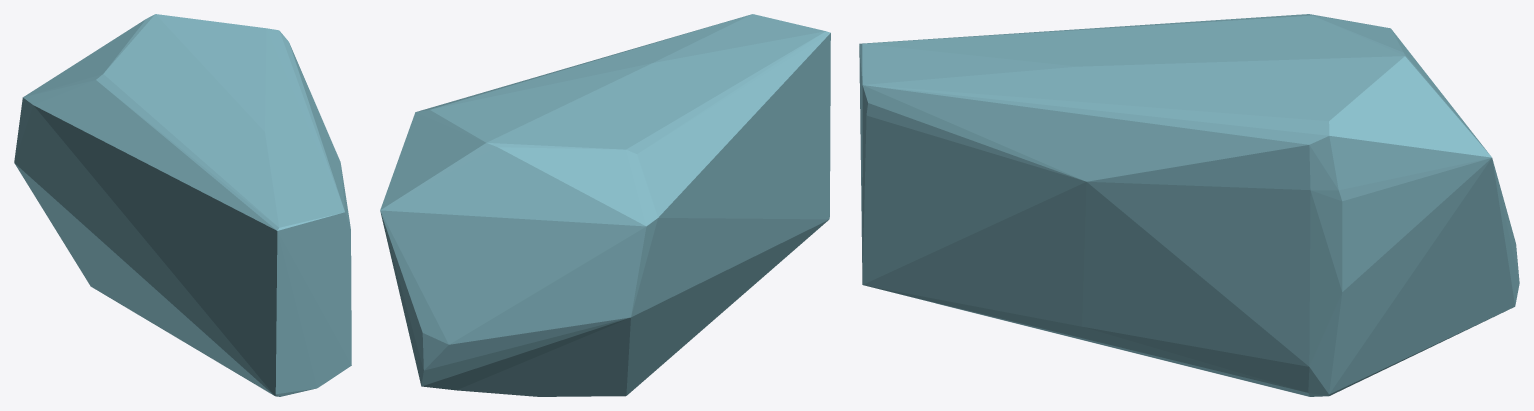
File: anesthesia_machine_a01.glb
3 views of the same model, side by side, from view 1: azimuth 30°, elevation 25°; view 2: azimuth 150°, elevation 25°; view 3: azimuth 270°, elevation 25° (orthographic). The views are drawn at different scales.
Visible parts, largest first — view 1: geometry_0; view 2: geometry_0; view 3: geometry_0.
Part boxes in pixels (x1,y1,x2,y2): geometry_0: (14, 14, 351, 396); geometry_0: (380, 14, 830, 396); geometry_0: (859, 14, 1519, 396).
Bounding box in the file's own units: 0.2513 × 0.2265 × 0.4726.
